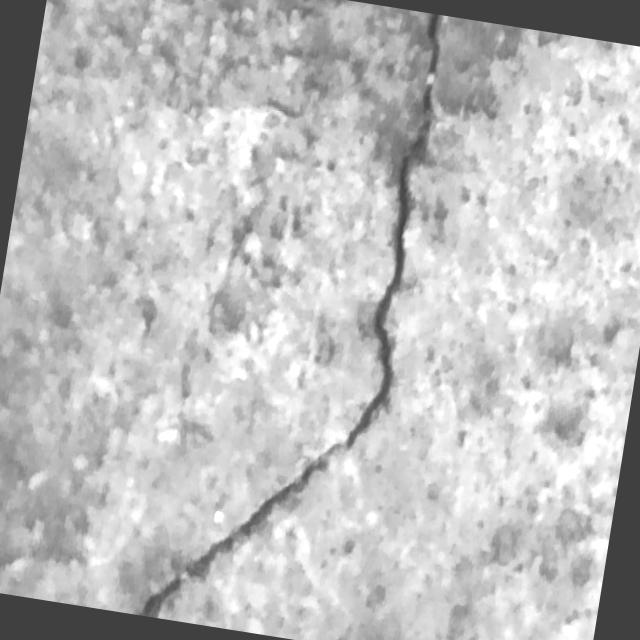crack: (142, 0, 454, 640)
